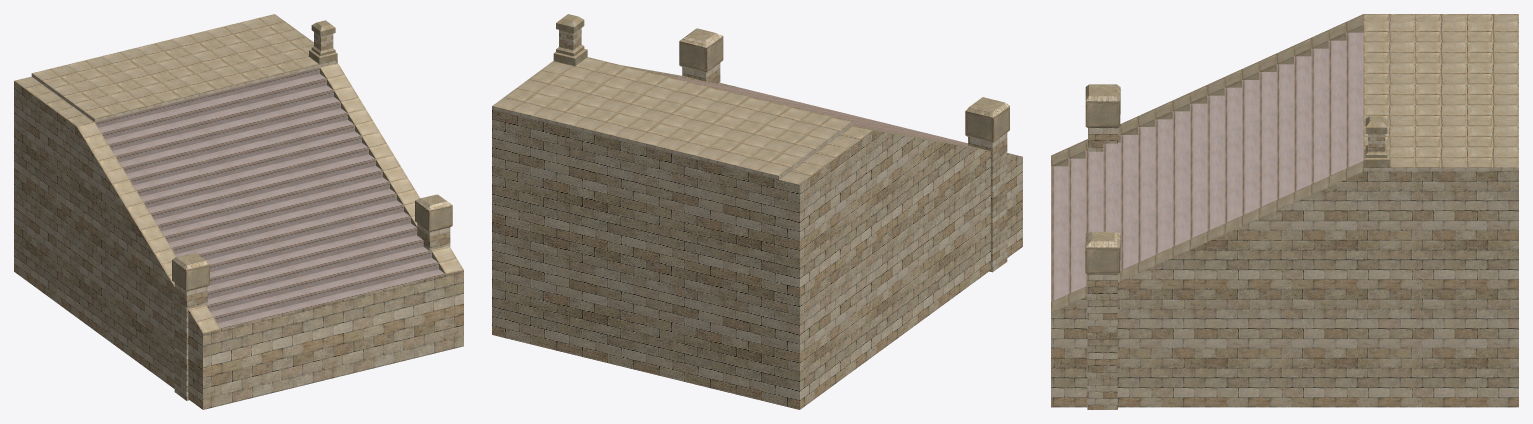
The model's file is thm_nboo_thed_imprv_seawall_stair_s01_l0.fbx.
3 views of the same model, side by side, from view 1: azimuth 30°, elevation 25°; view 2: azimuth 150°, elevation 25°; view 3: azimuth 270°, elevation 25° (orthographic). The views are drawn at different scales.
Parts seen in each view (by area): view 1: mesh_node; view 2: mesh_node; view 3: mesh_node.
Boxes of the visible parts, left/top/right/bottom form: mesh_node: left=14, top=14, right=463, bottom=409; mesh_node: left=492, top=14, right=1022, bottom=409; mesh_node: left=1051, top=14, right=1518, bottom=409.
Size of the model in its own units: 8.77 by 7.25 by 10.78.
